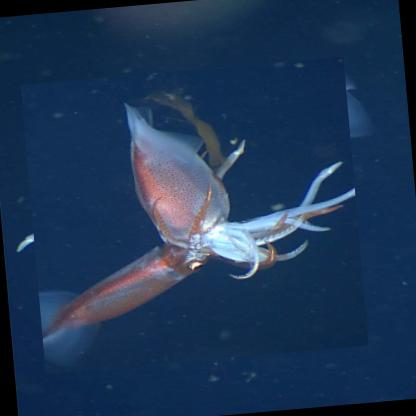colossal_squid: (19, 56, 368, 374)
